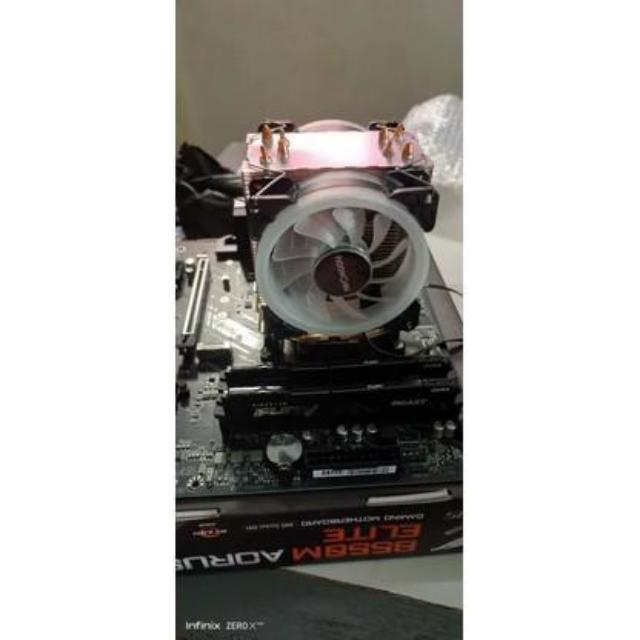CPU_Fan: (229, 128, 443, 344)
